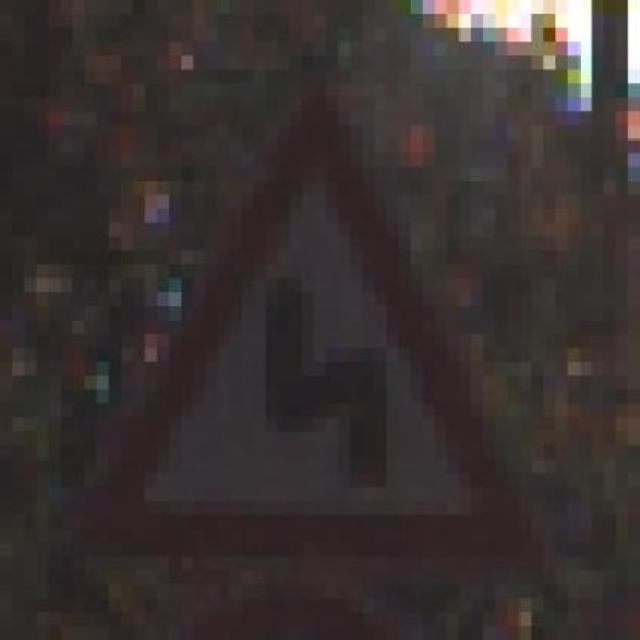Left Zig Zag Traffic: (48, 69, 555, 571)
